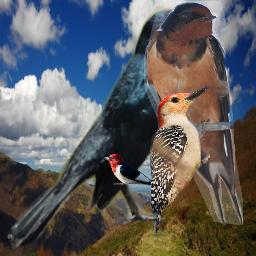Crow: (8, 6, 217, 250)
Swallow: (144, 1, 243, 225)
Woodpecker: (150, 85, 210, 235), (99, 153, 162, 191)
